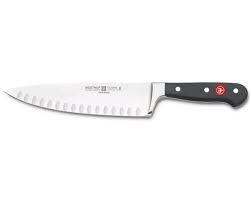Knife: (2, 80, 248, 118)
